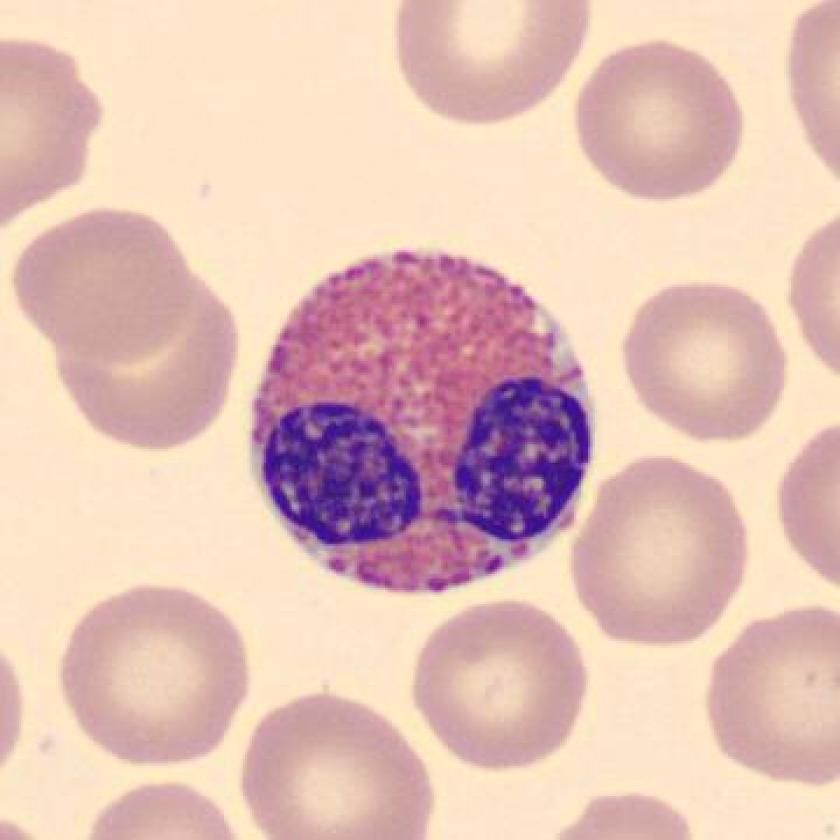eosinophil: (232, 240, 619, 615)
